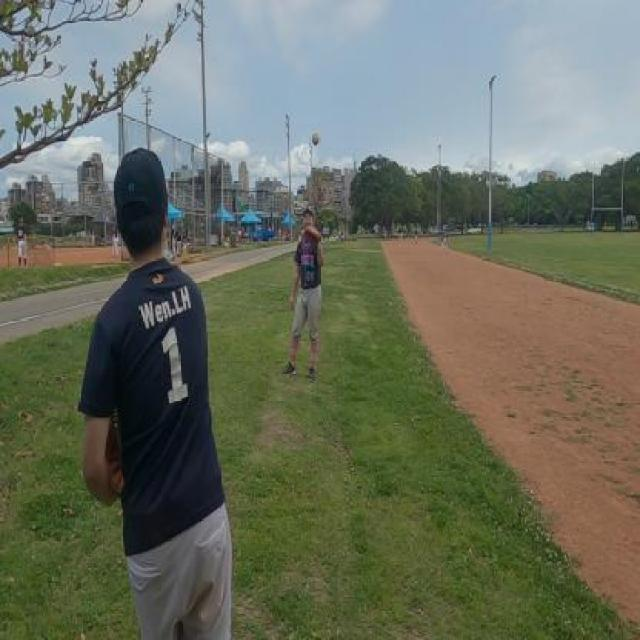baseball: (312, 132, 319, 148)
